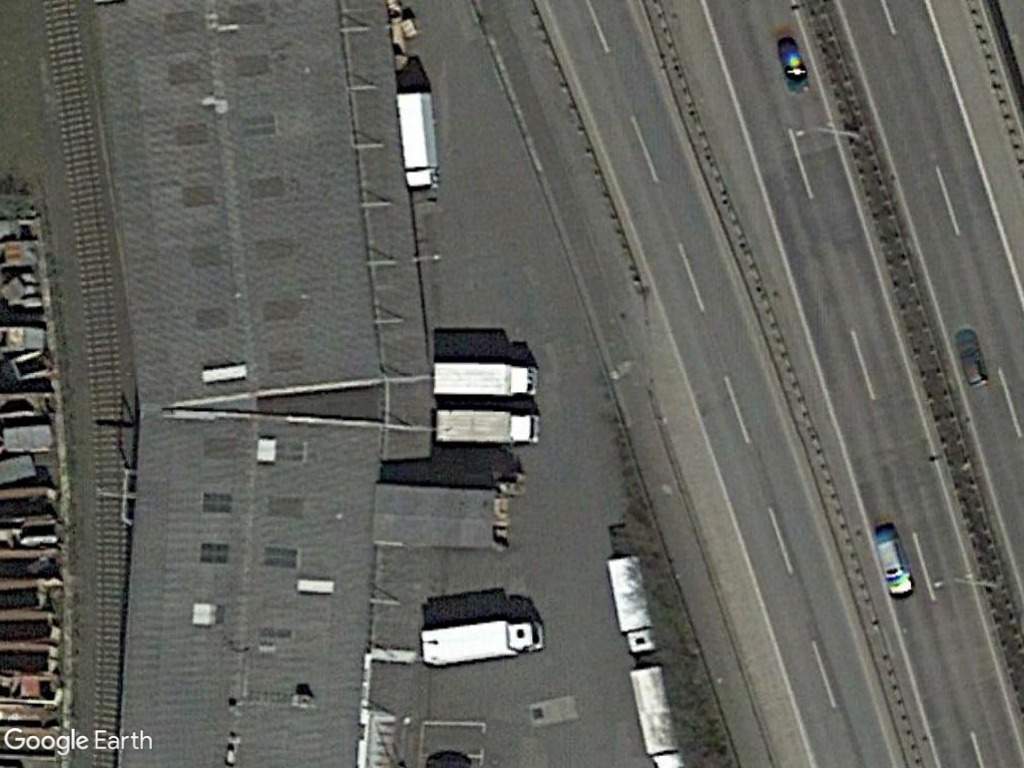truck: (411, 615, 545, 668), (625, 659, 688, 768), (602, 550, 660, 653), (420, 358, 543, 404), (392, 85, 444, 193), (428, 405, 546, 449)
